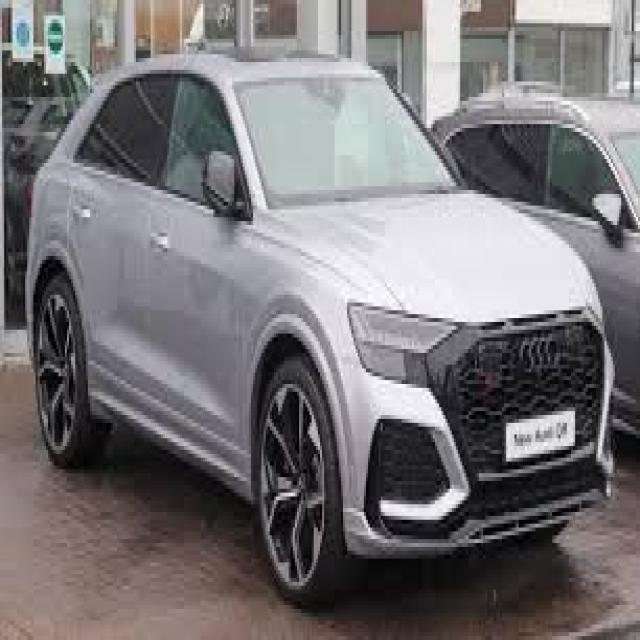SUV: (30, 50, 624, 606)
